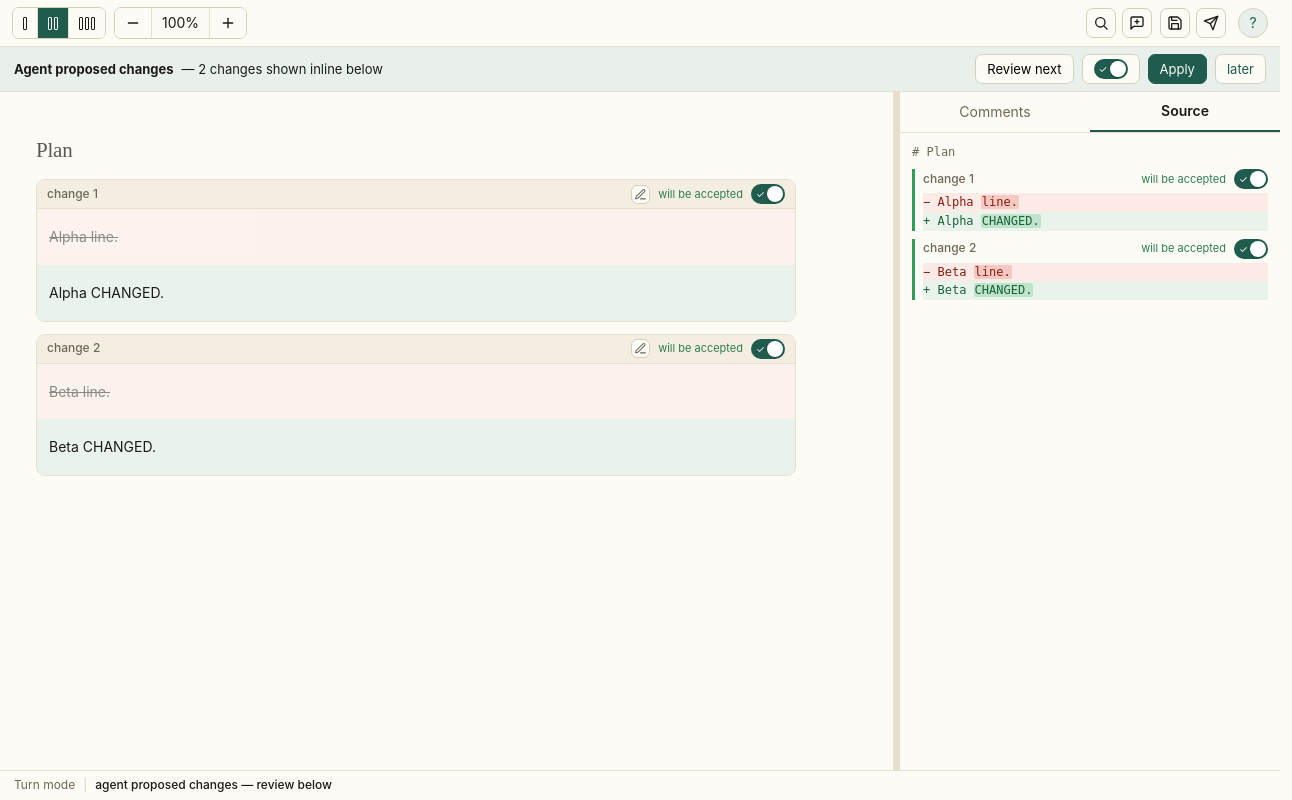
Test: App review diff controls (memory-backed) › 'Reject all' then Apply keeps the original body and discards the proposal
Click the checkbox named "accept or reject all changes": coordinates (1110, 69) [1082,54,1140,84]
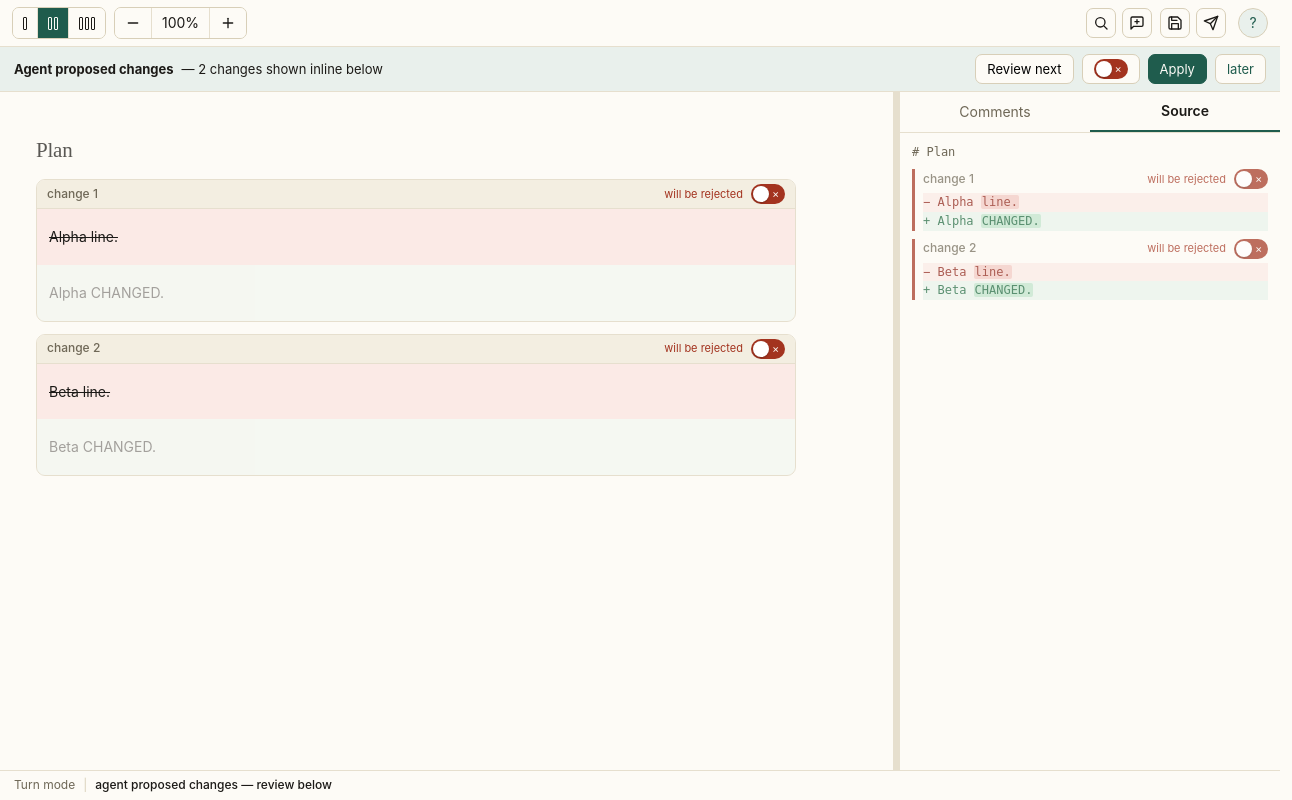
Result: the checkbox named "accept or reject all changes" is not checked at [1082,54,1140,84]
Note: Don't Apply until the tri-state observably flipped to reject — Apply reads the toggle state.
Click the button "Apply": coordinates (1177, 69) [1148,54,1207,84]
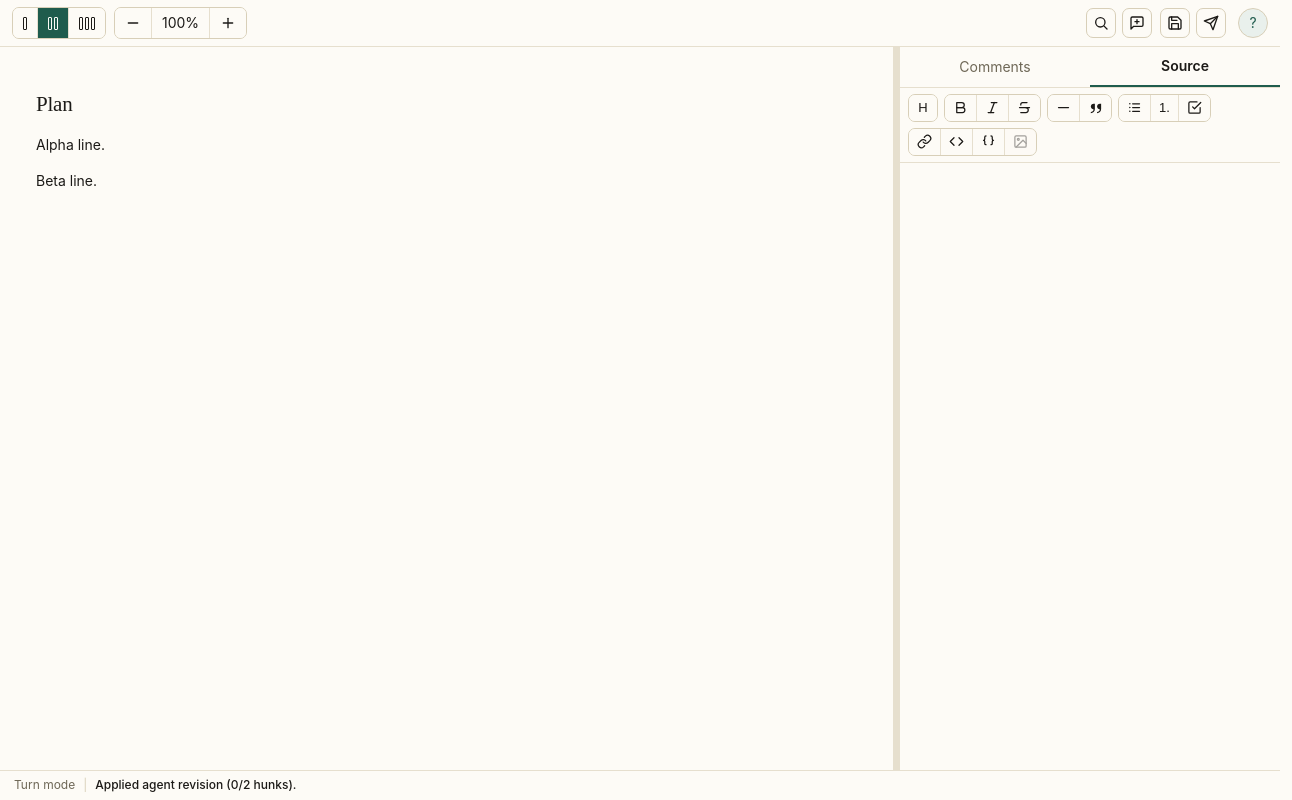
Expected: the text "Alpha line." is shown, [36,136,105,153]
Result: the text "Agent proposed changes" is gone
Result: the text "CHANGED" is gone
